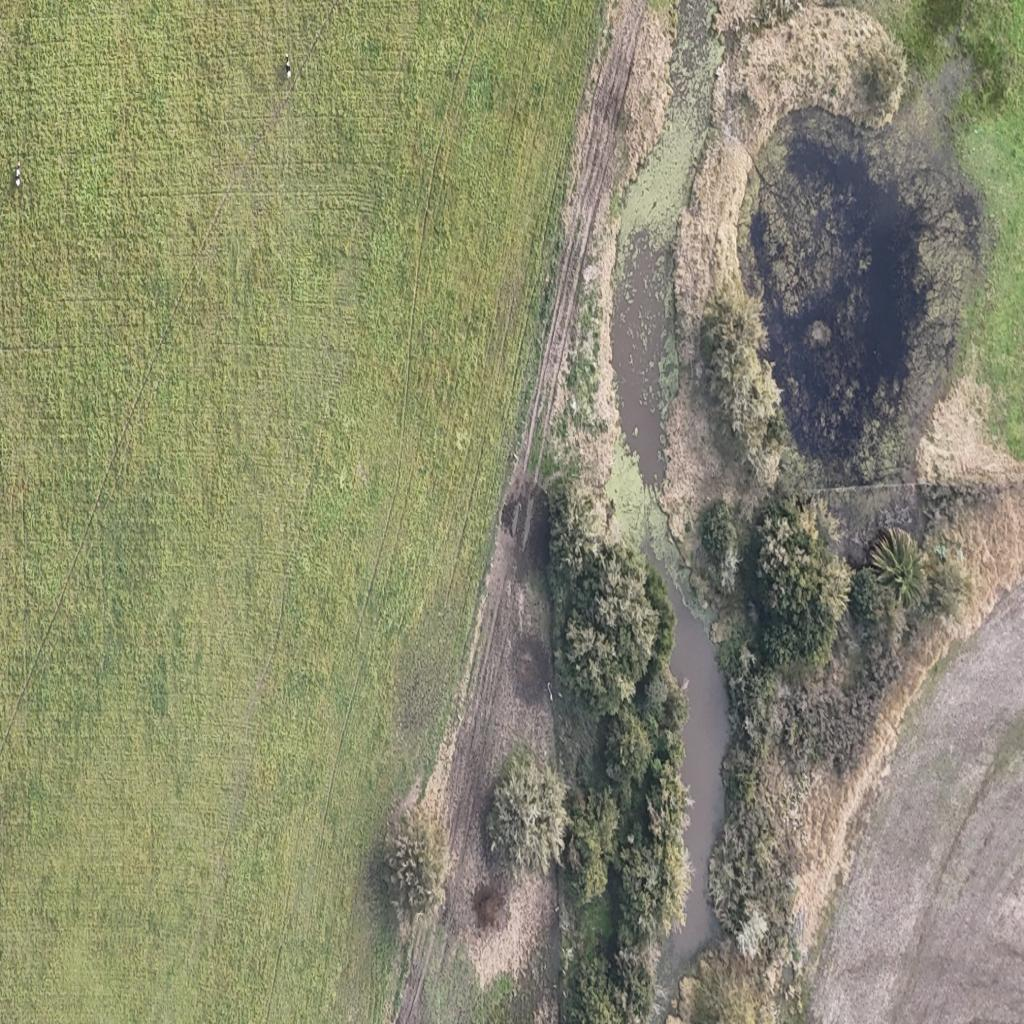cow: (16, 164, 22, 189), (285, 56, 291, 80)
